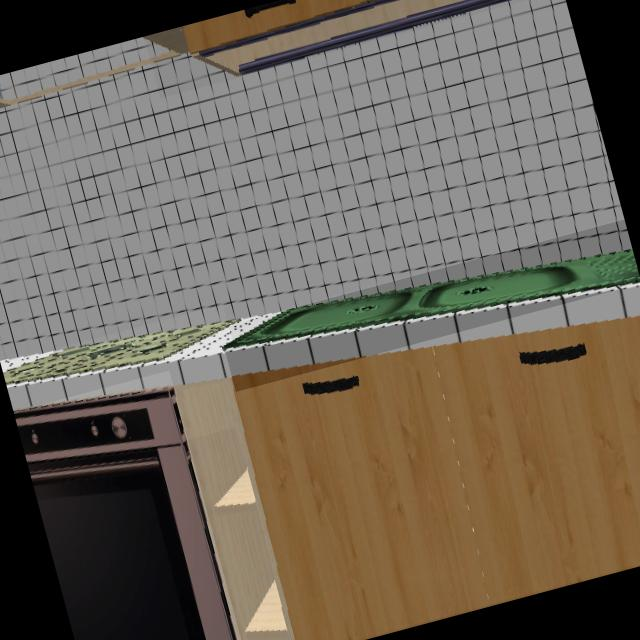cabinet: (232, 316, 640, 640), (143, 0, 512, 77)
countertop: (6, 283, 640, 411)
oven: (13, 388, 237, 640)
sink: (224, 250, 640, 350)
stove: (0, 323, 228, 387)
